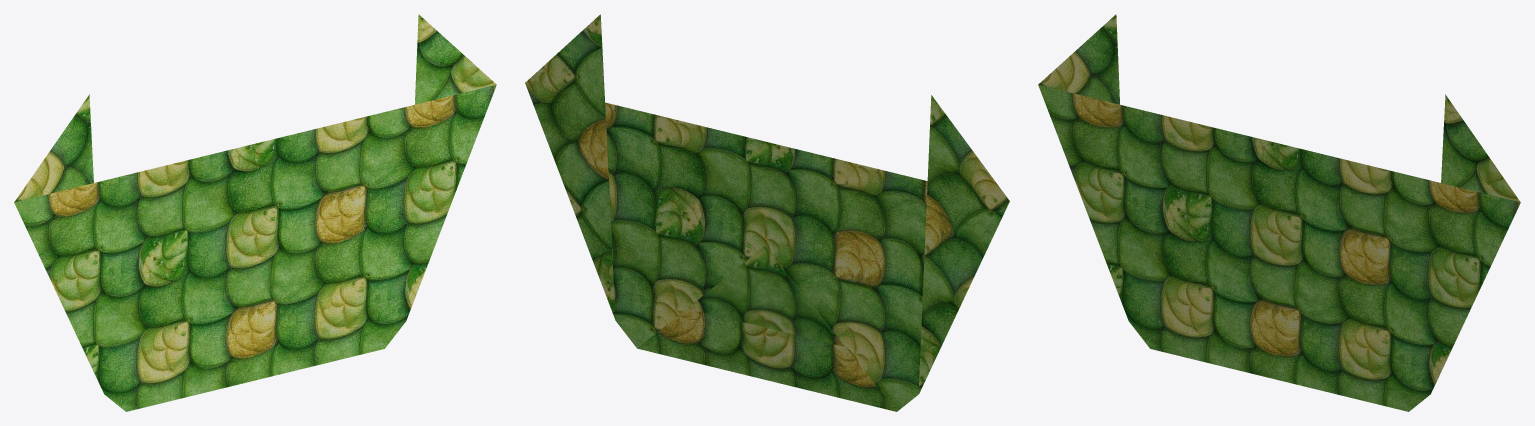
3 views of the same model, side by side, from view 1: azimuth 30°, elevation 25°; view 2: azimuth 150°, elevation 25°; view 3: azimuth 330°, elevation 25° (orthographic).
Parts seen in each view (by area): view 1: Origami_Model_05.001; view 2: Origami_Model_05.001; view 3: Origami_Model_05.001.
Boxes of the visible parts, left/top/right/bottom form: Origami_Model_05.001: left=14, top=14, right=496, bottom=411; Origami_Model_05.001: left=525, top=14, right=1009, bottom=411; Origami_Model_05.001: left=1038, top=14, right=1520, bottom=411.
Bounding box in the file's own units: 0.192 × 0.1236 × 0.002.
1 material, 1 textured.
